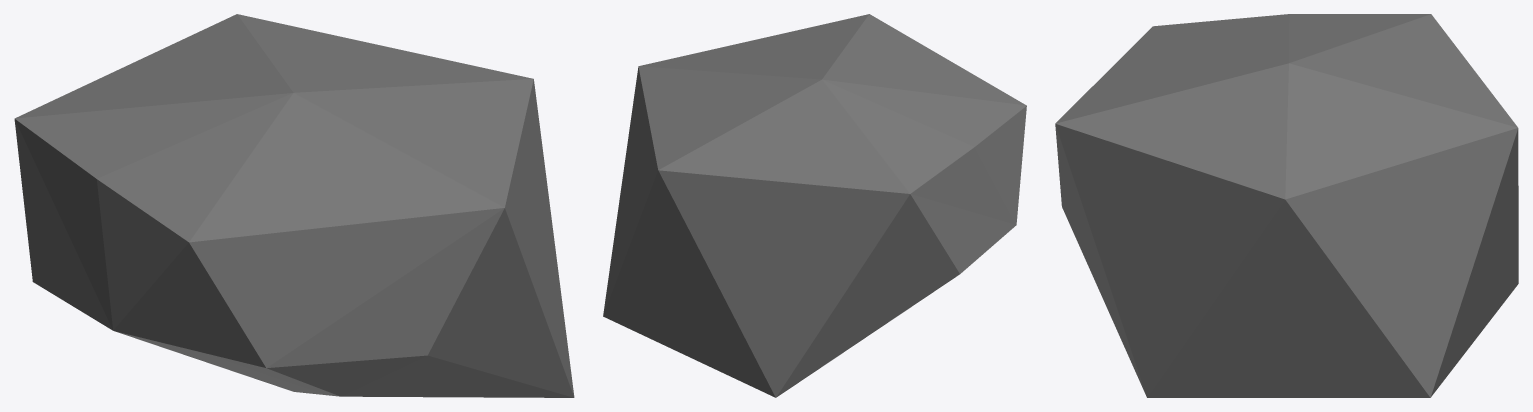
The model's file is Rock_01.fbx.
3 renders of one model, left to right at view 1: azimuth 30°, elevation 25°; view 2: azimuth 150°, elevation 25°; view 3: azimuth 270°, elevation 25°, orthographic. The views are drawn at different scales.
Parts seen in each view (by area): view 1: Rock_01; view 2: Rock_01; view 3: Rock_01.
Part boxes in pixels (bbox=[...]): Rock_01: bbox=[14, 14, 574, 397]; Rock_01: bbox=[603, 14, 1026, 397]; Rock_01: bbox=[1055, 14, 1518, 397].
Size of the model in its own units: 1.48 by 0.9253 by 1.51.
